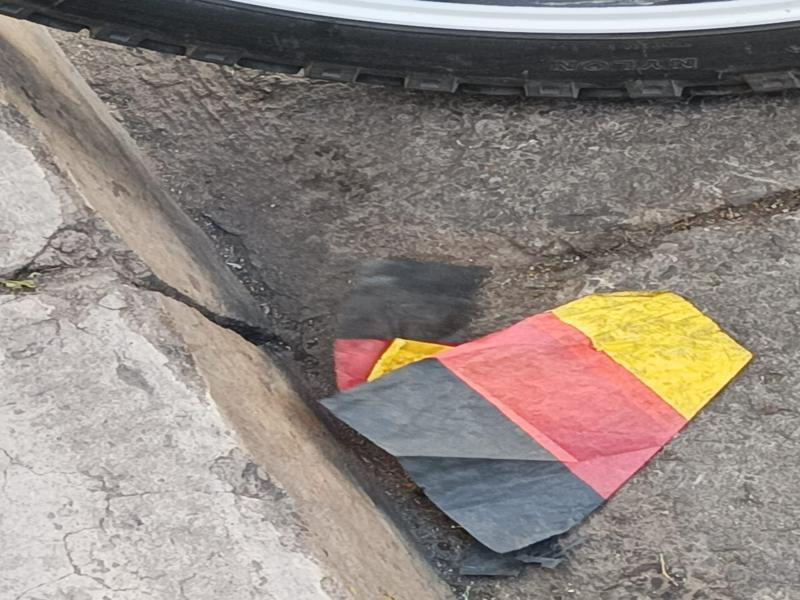papel: (319, 290, 754, 555)
